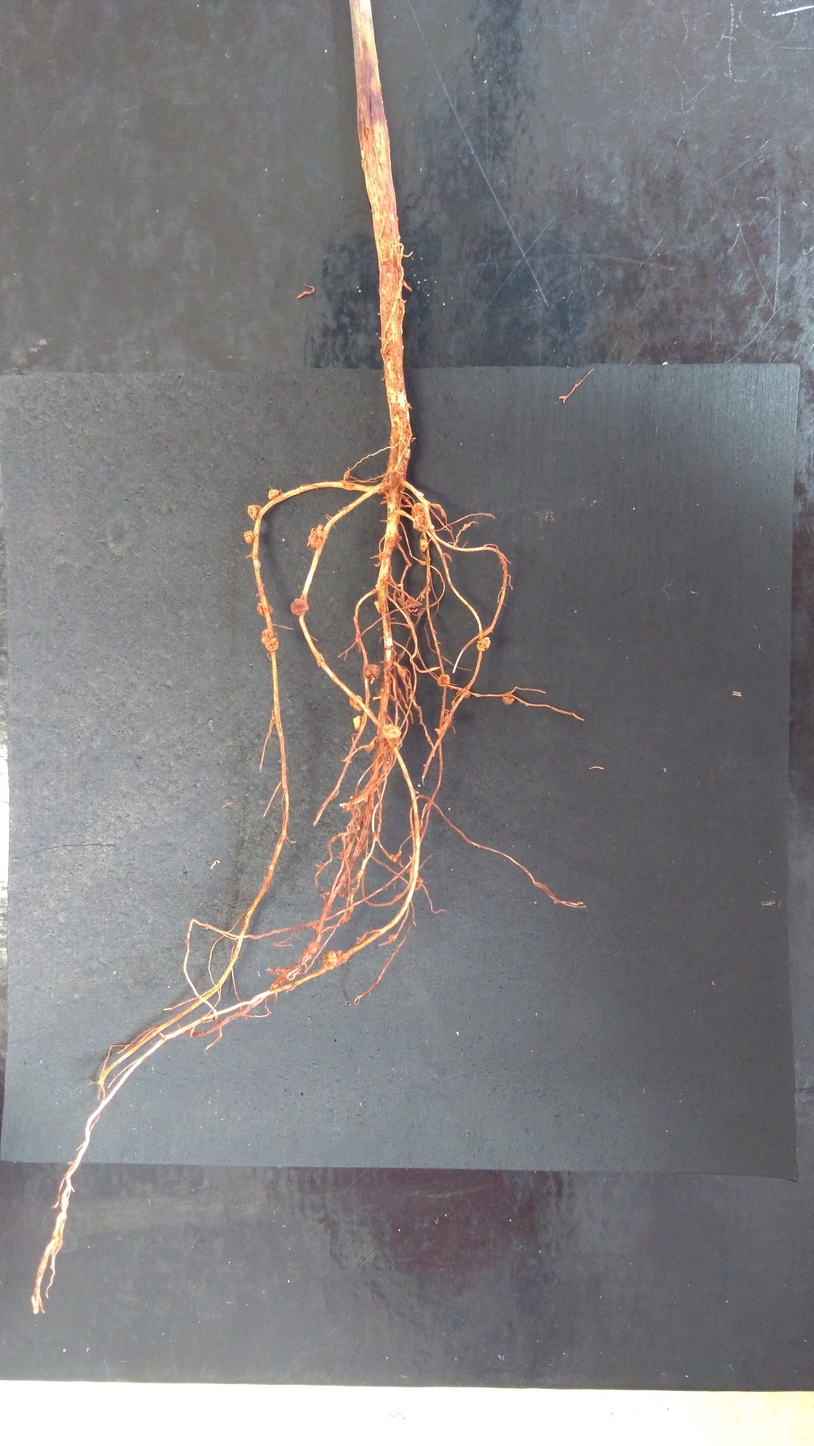nodule: (262, 628, 279, 651), (308, 525, 324, 549), (382, 723, 402, 739), (322, 951, 337, 971), (291, 598, 308, 615), (413, 514, 430, 531), (364, 664, 380, 680), (247, 504, 262, 521), (257, 603, 273, 617), (411, 503, 425, 518), (350, 695, 363, 711), (436, 673, 450, 687), (477, 637, 490, 652), (396, 665, 409, 678), (244, 530, 255, 543), (503, 692, 514, 705), (458, 688, 472, 698), (390, 851, 401, 863), (308, 942, 319, 954), (402, 448, 411, 462), (268, 489, 279, 500), (354, 716, 362, 731), (443, 714, 452, 727), (420, 538, 428, 551), (374, 600, 381, 614), (340, 835, 349, 845), (378, 551, 384, 560), (398, 536, 402, 542)
